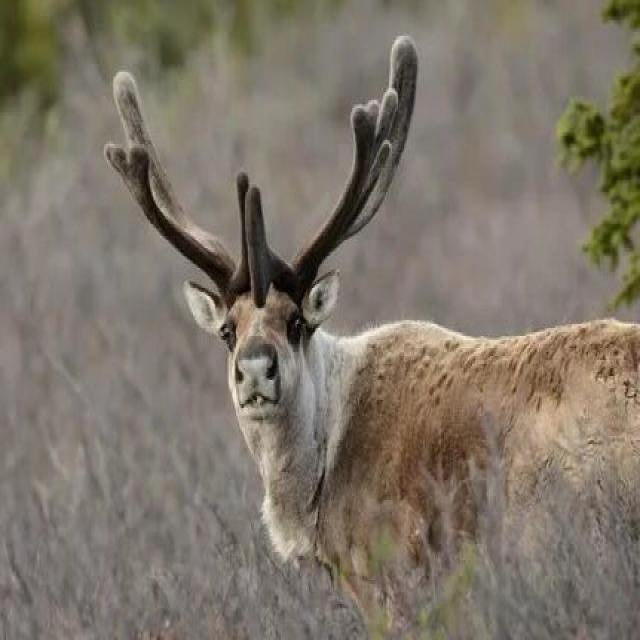deer: (150, 73, 640, 619)
